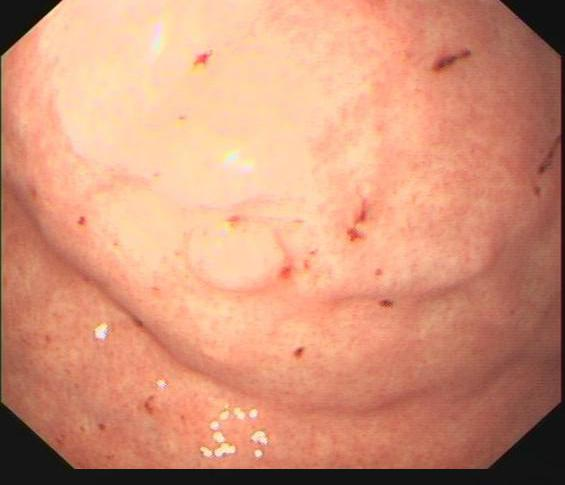Polyp: (179, 215, 291, 298)
